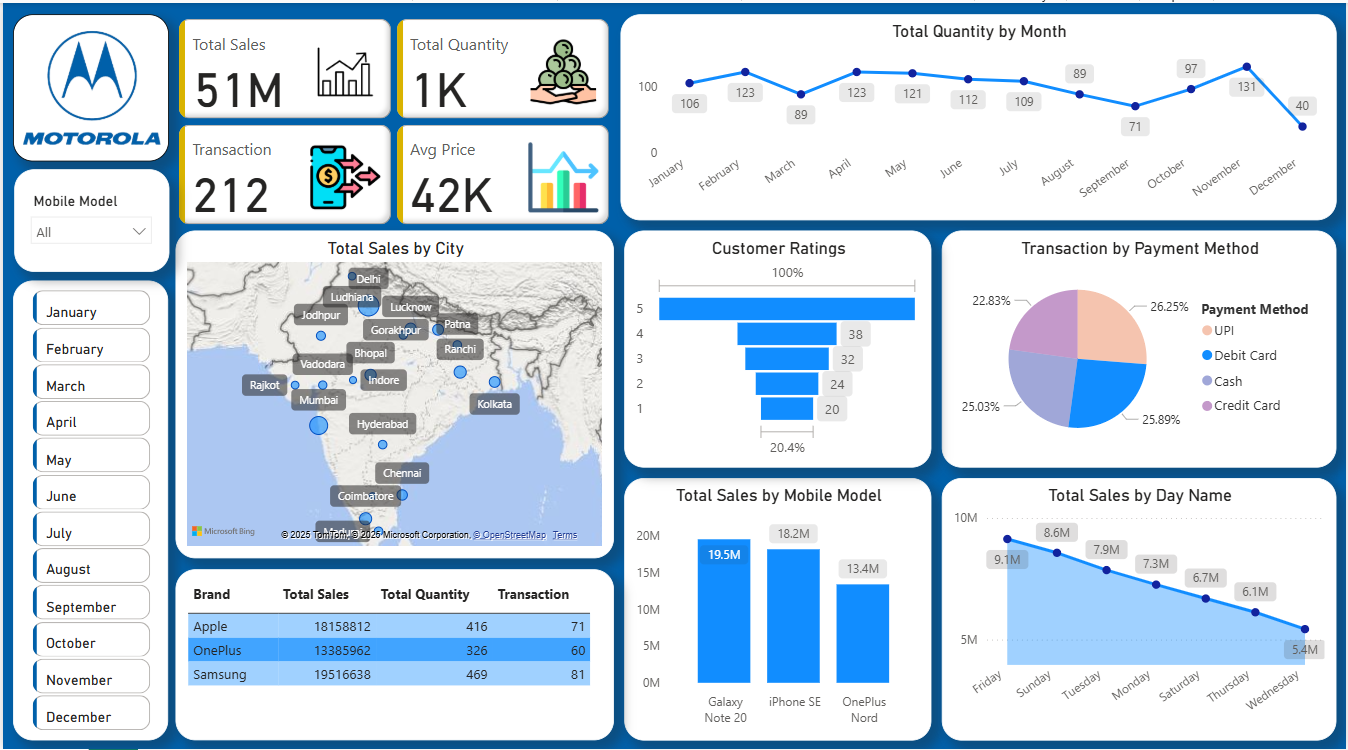

The dashboard page shown, as its layout file describes it:
{"tool":"powerbi","page":{"name":"Dashboard","canvas":[1350,750],"ordinal":0},"visuals":[{"type":"shape","box":[9.7,10.9,156.8,148.4],"z":0},{"type":"shape","box":[10.1,279,155.8,462.5],"z":1001},{"type":"advancedSlicerVisual","fields":{"Values":["Sales_data.Date.Variation.Date Hierarchy.Month"]},"box":[25.1,284,128.2,453.7],"z":1002},{"type":"cardVisual","fields":{"Data":["Sales_data.Total Sales","Sales_data.Total Quantity","Sales_data.Transaction","Sales_data.Avg Price"]},"box":[172.2,11.3,442.4,216.2],"z":1003},{"type":"map","title":"Total Sales by City","fields":{"Category":["Sales_data.City"],"Size":["Sales_data.Total Sales"]},"box":[173.4,228.7,441.1,329.3],"z":1004},{"type":"lineChart","fields":{"Y":["Sales_data.Total Quantity"],"Category":["Sales_data.Date.Variation.Date Hierarchy.Month","Sales_data.Date.Variation.Date Hierarchy.Day"]},"box":[620.8,11.3,720.1,207.4],"z":1005},{"type":"clusteredColumnChart","fields":{"Category":["Sales_data.Mobile Model"],"Y":["Sales_data.Total Sales"]},"box":[624.6,477.5,309.2,263.9],"z":1006},{"type":"pieChart","fields":{"Y":["Sales_data.Transaction"],"Category":["Sales_data.Payment Method"]},"box":[943.8,228.7,397.1,238.8],"z":1007},{"type":"funnel","title":"Customer Ratings","fields":{"Y":["CountNonNull(Sales_data.Customer Ratings)"],"Category":["Sales_data.Customer Ratings"]},"box":[624.6,228.7,309.2,238.8],"z":1008},{"type":"areaChart","fields":{"Category":["Sales_data.Day Name"],"Y":["Sales_data.Total Sales"]},"box":[943.8,477.5,397.1,263.9],"z":1009},{"type":"tableEx","fields":{"Values":["Sales_data.Brand","Sales_data.Total Sales","Sales_data.Total Quantity","Sales_data.Transaction"]},"box":[173.4,569.3,441.1,172.2],"z":1010},{"type":"shape","box":[11.3,167.1,155.8,103.1],"z":1011},{"type":"slicer","fields":{"Values":["Sales_data.Mobile Model"]},"box":[17.6,186,142,65.3],"z":1012},{"type":"textbox","box":[13.8,41.5,148.3,74.1],"z":1013}]}

Visuals, with their boxes in screenshot pixels (x1, y1, x2, y2), scaled from the page's 1350x750 canvas onto the 1348x750 screenshot:
shape: <box>10,11,166,159</box>
shape: <box>10,279,166,742</box>
advancedSlicerVisual - Sales_data.Date.Variation.Date Hierarchy.Month: <box>25,284,153,738</box>
cardVisual - Sales_data.Total Sales x Sales_data.Total Quantity: <box>172,11,614,228</box>
"Total Sales by City" map: <box>173,229,614,558</box>
lineChart - Sales_data.Total Quantity x Sales_data.Date.Variation.Date Hierarchy.Month: <box>620,11,1339,219</box>
clusteredColumnChart - Sales_data.Mobile Model x Sales_data.Total Sales: <box>624,478,932,741</box>
pieChart - Sales_data.Transaction x Sales_data.Payment Method: <box>942,229,1339,468</box>
"Customer Ratings" funnel: <box>624,229,932,468</box>
areaChart - Sales_data.Day Name x Sales_data.Total Sales: <box>942,478,1339,741</box>
tableEx - Sales_data.Brand x Sales_data.Total Sales: <box>173,569,614,742</box>
shape: <box>11,167,167,270</box>
slicer - Sales_data.Mobile Model: <box>18,186,159,251</box>
textbox: <box>14,42,162,116</box>
